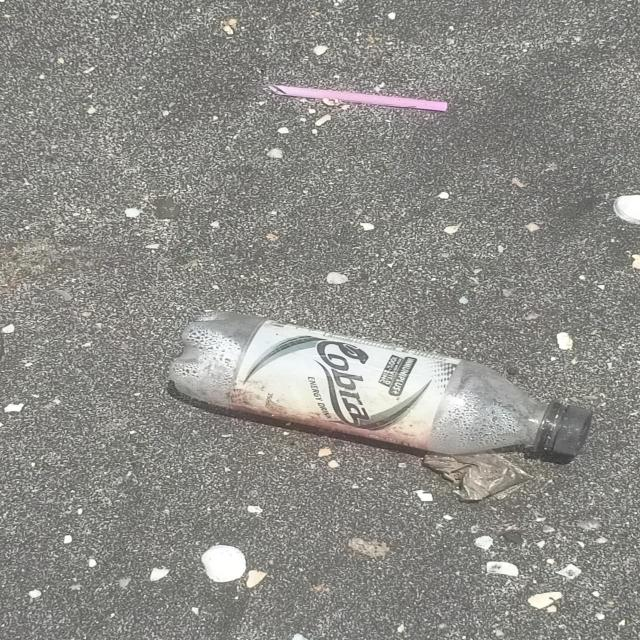plastic_waste: (167, 311, 595, 460), (267, 84, 451, 114)
